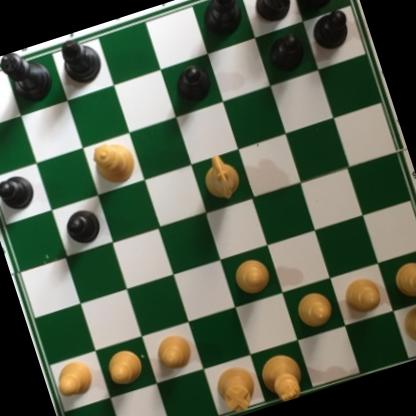black-bishop: (55, 30, 107, 91), (195, 0, 247, 40)
black-king: (0, 45, 57, 111)
black-knight: (246, 0, 300, 29)
black-pawn: (307, 5, 355, 54), (169, 61, 214, 108), (263, 31, 307, 77), (61, 205, 105, 249), (0, 170, 39, 216)
black-rook: (285, 0, 346, 16)
white-king: (253, 348, 309, 407)
white-knight: (196, 148, 245, 208)
white-pawn: (49, 353, 98, 402), (101, 343, 148, 391), (229, 252, 275, 300), (339, 274, 386, 319), (151, 329, 197, 374), (293, 288, 337, 332), (388, 258, 416, 303)
white-queen: (86, 134, 142, 189)
white-rook: (209, 363, 262, 416), (394, 294, 416, 356)
